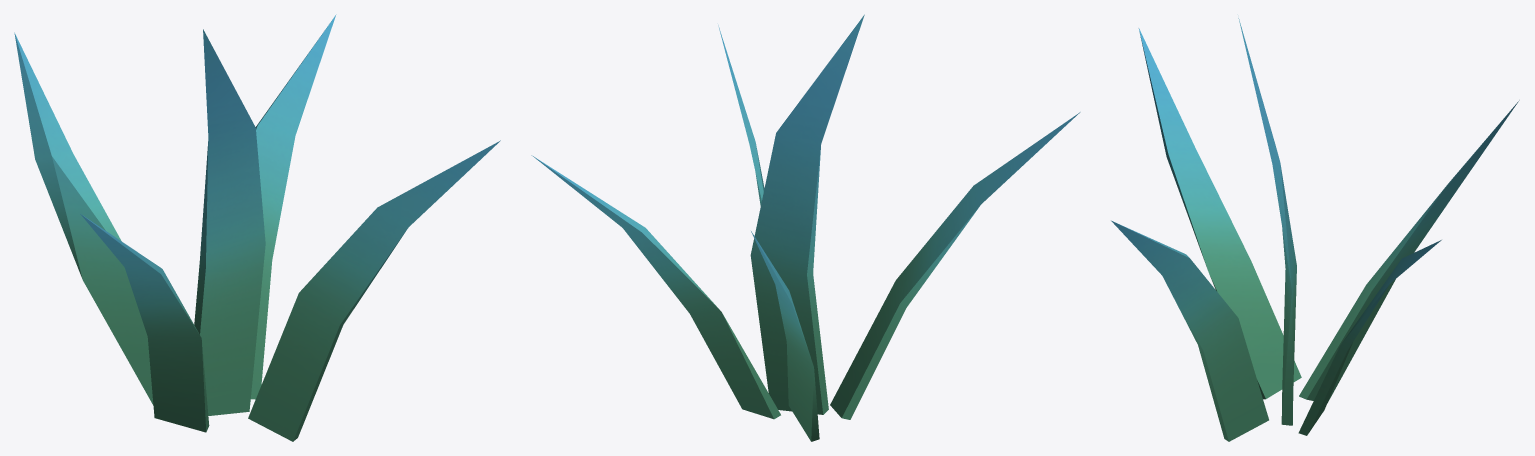
File: Lush_grass.FBX
The picture shows the model from 3 angles, left to right: view 1: azimuth 30°, elevation 25°; view 2: azimuth 150°, elevation 25°; view 3: azimuth 270°, elevation 25°; orthographic projection. The views are drawn at different scales.
Parts seen in each view (by area): view 1: Lush_grass; view 2: Lush_grass; view 3: Lush_grass.
Boxes of the visible parts, box(x1,y1,x2,y2) form: Lush_grass: box(14, 14, 500, 441); Lush_grass: box(531, 14, 1080, 441); Lush_grass: box(1111, 18, 1519, 441).
Bounding box in the file's own units: 1.22 × 1.18 × 1.13.
